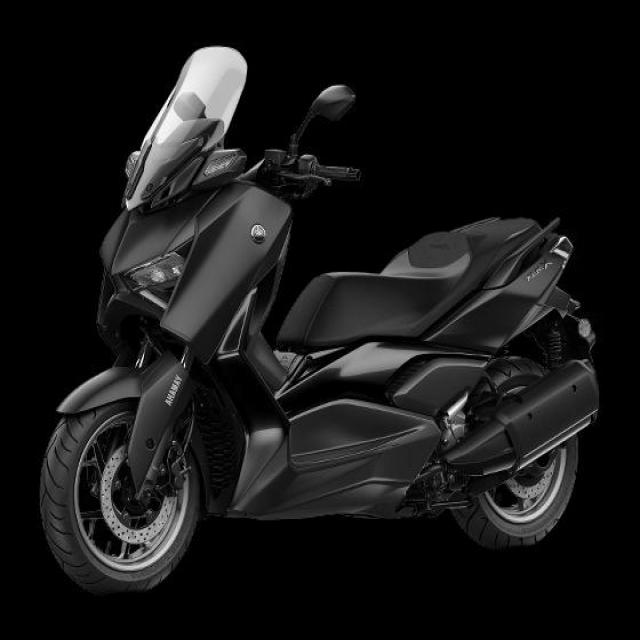Motorcycle: (40, 45, 600, 596)
